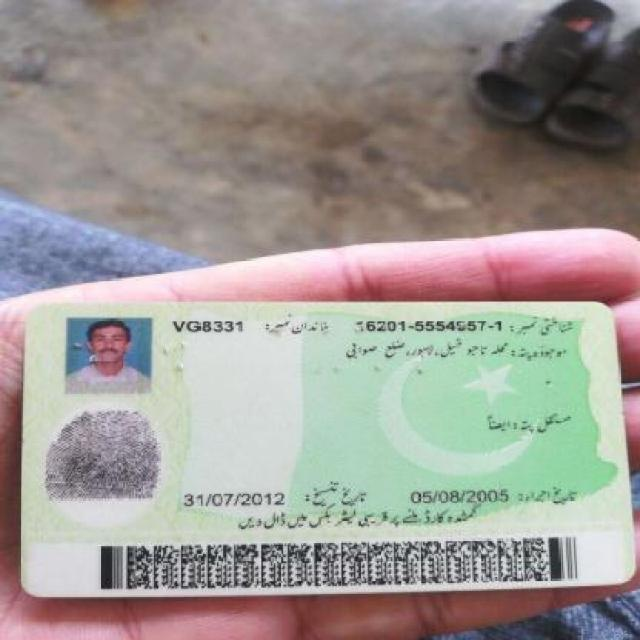Back: (6, 289, 639, 594)
